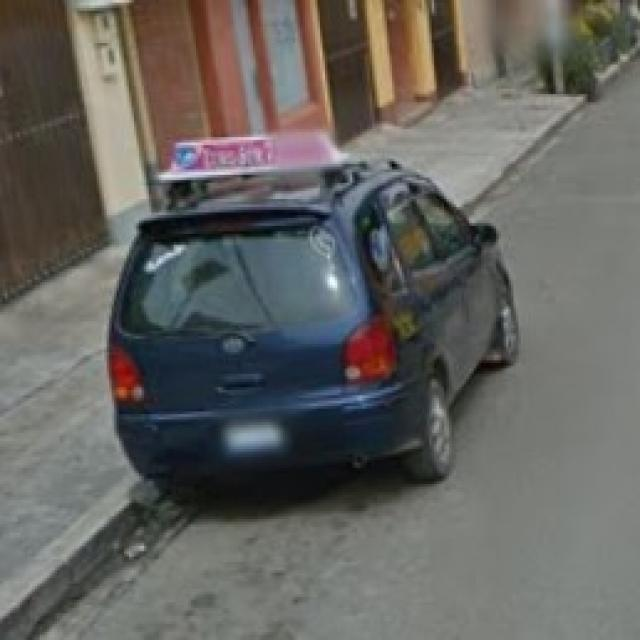Car: (114, 158, 507, 496)
